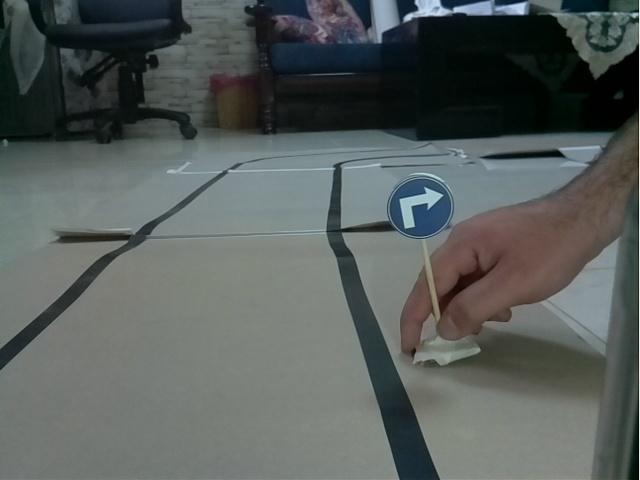turn: (385, 172, 455, 240)
